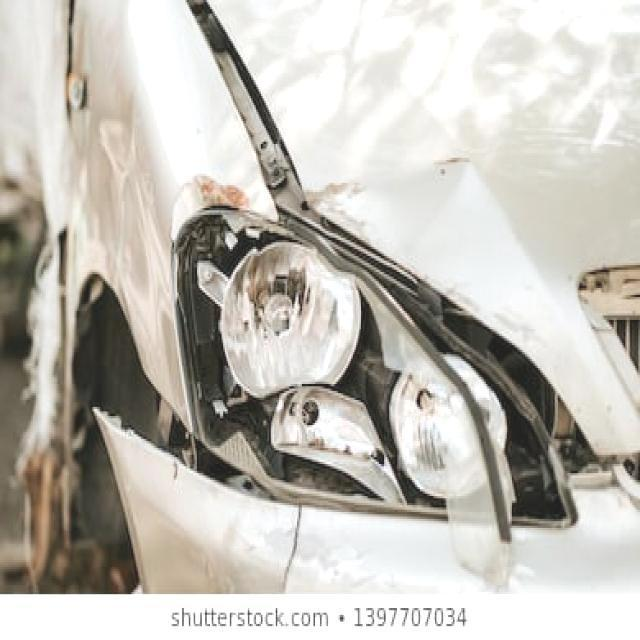minor: (306, 180, 376, 240), (436, 157, 471, 176)
moderate: (64, 44, 625, 581), (178, 0, 578, 583)
